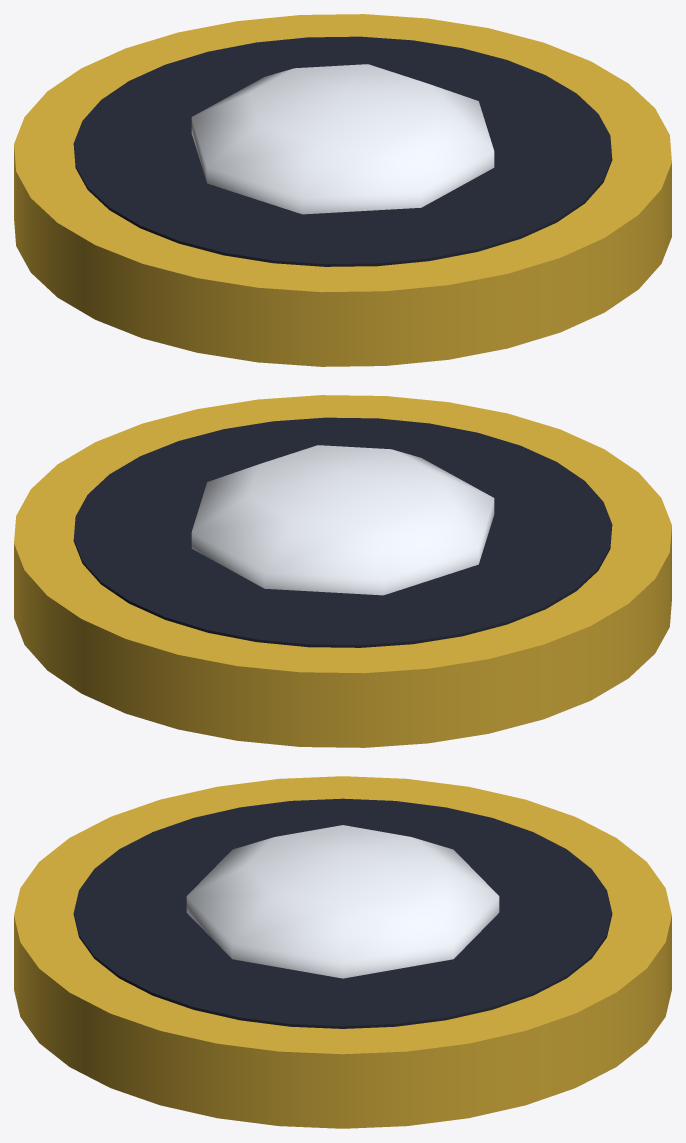
Rendered from splendor_token.glb.
3 renders of one model, top to bottom at view 1: azimuth 30°, elevation 25°; view 2: azimuth 150°, elevation 25°; view 3: azimuth 270°, elevation 25°, orthographic.
Parts seen in each view (by area): view 1: GoldRim, InnerFace, CentralJewel; view 2: GoldRim, InnerFace, CentralJewel; view 3: GoldRim, InnerFace, CentralJewel.
Part boxes in pixels (x1,y1,x2,y2): GoldRim: [14, 14, 671, 366]; InnerFace: [73, 36, 612, 266]; CentralJewel: [191, 64, 494, 214]; GoldRim: [14, 395, 671, 747]; InnerFace: [73, 417, 612, 647]; CentralJewel: [191, 445, 494, 595]; GoldRim: [14, 776, 671, 1128]; InnerFace: [73, 798, 612, 1028]; CentralJewel: [186, 825, 499, 978].
Bounding box in the file's own units: 0.88 × 0.202 × 0.88.
